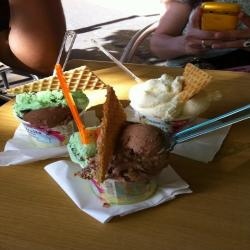icecream: (68, 123, 171, 181), (130, 74, 213, 134), (12, 82, 89, 135)
